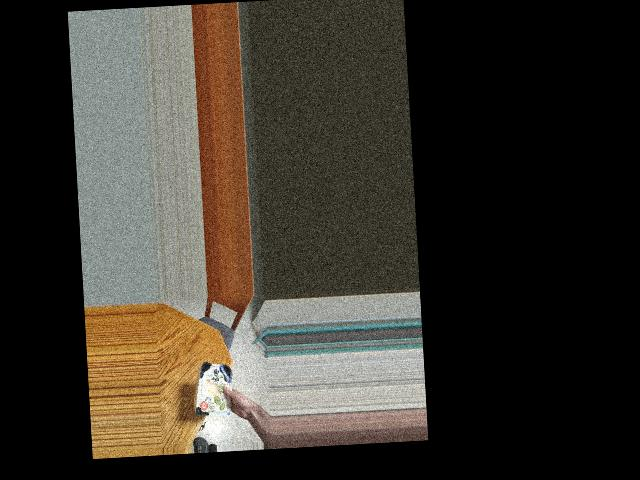cheese: (195, 359, 234, 410)
